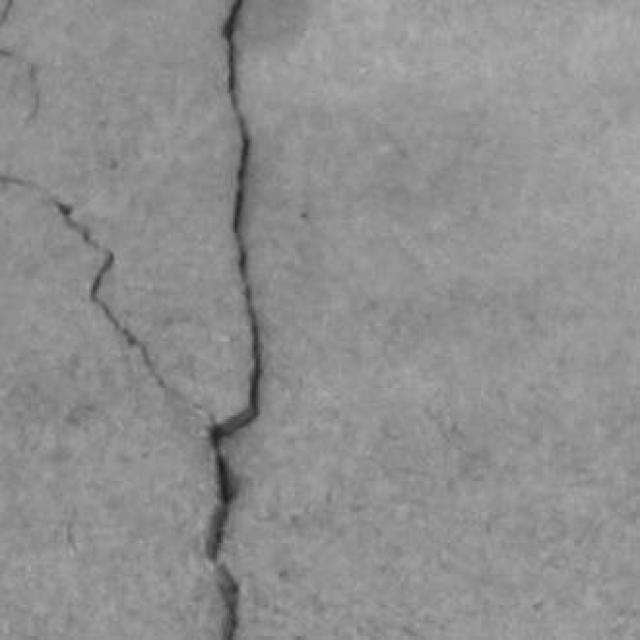crack: (0, 175, 178, 397), (206, 0, 261, 639), (208, 0, 261, 639), (0, 47, 40, 122), (0, 0, 13, 27)
